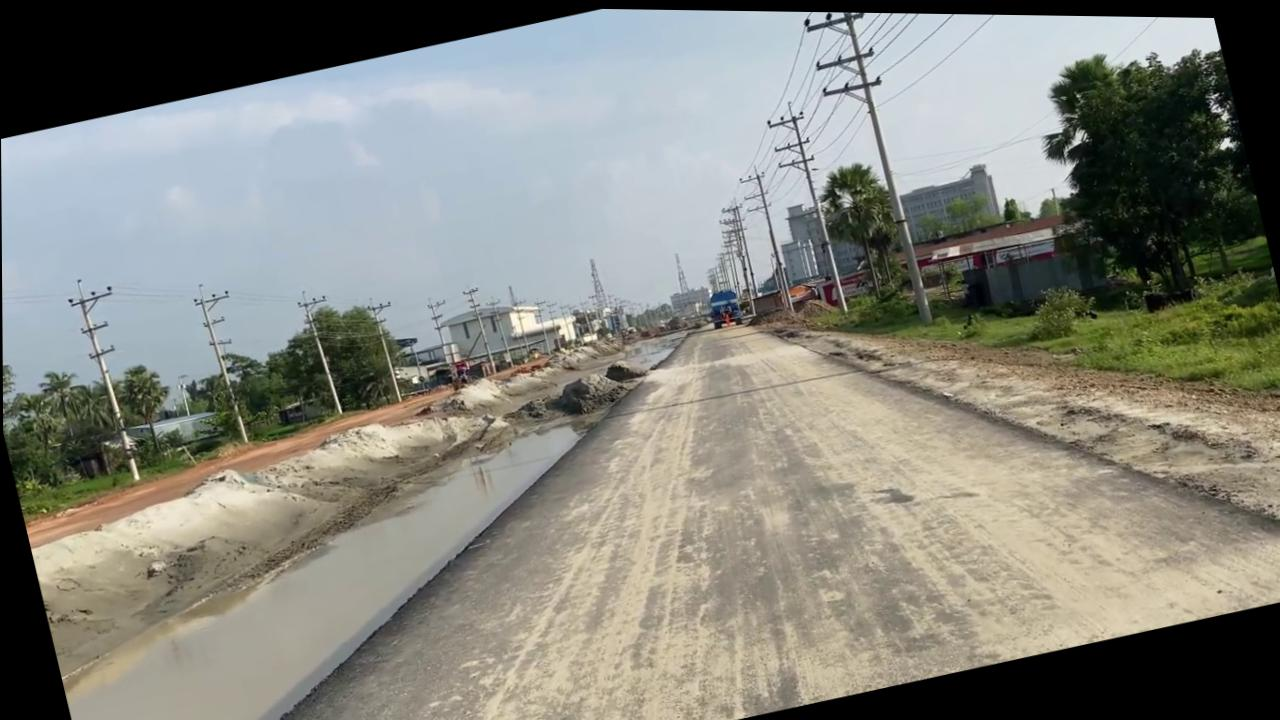Dog: (953, 308, 977, 334), (959, 309, 975, 327)
Pole: (795, 9, 938, 332), (62, 271, 155, 486), (762, 94, 851, 316), (189, 277, 262, 446), (735, 162, 796, 315), (293, 284, 351, 417), (363, 293, 411, 403)
Rickshaw: (633, 258, 1264, 720)
Sidewalk: (27, 400, 697, 720)
Stuck-water: (718, 306, 730, 324)
Traffic-sign: (1015, 20, 1274, 322), (809, 151, 913, 304), (108, 357, 180, 459)
Tree: (703, 283, 744, 328)
